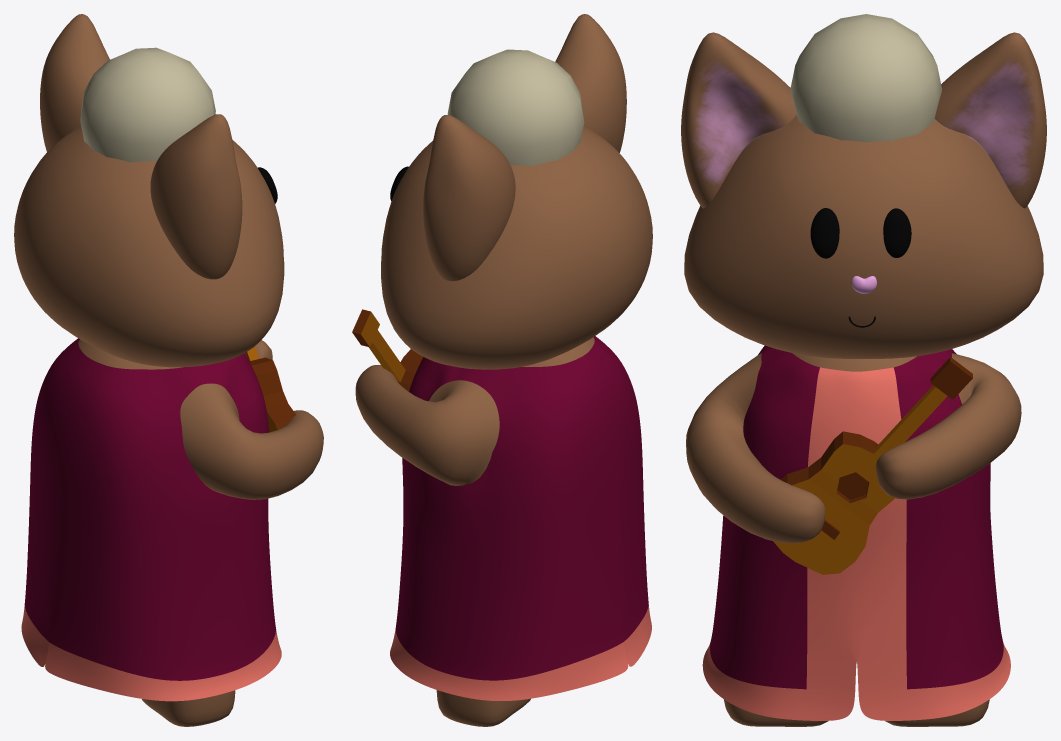
File: guitarra1.glb
3 views of the same model, side by side, from view 1: azimuth 30°, elevation 25°; view 2: azimuth 150°, elevation 25°; view 3: azimuth 270°, elevation 25° (orthographic). The views are drawn at different scales.
Visible parts, largest first — view 1: Guitarra.001; view 2: Guitarra.001; view 3: Guitarra.001.
Boxes of the visible parts, bbox=[...] form: Guitarra.001: bbox=[14, 14, 323, 726]; Guitarra.001: bbox=[352, 14, 652, 726]; Guitarra.001: bbox=[681, 14, 1046, 726].
Bounding box in the file's own units: 2.14 × 5.1 × 2.44.
9 materials, 1 textured.
